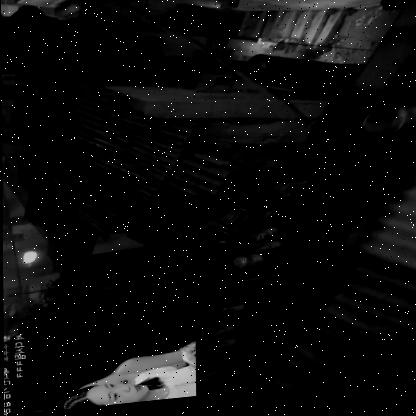streamer: (60, 363, 194, 411)
